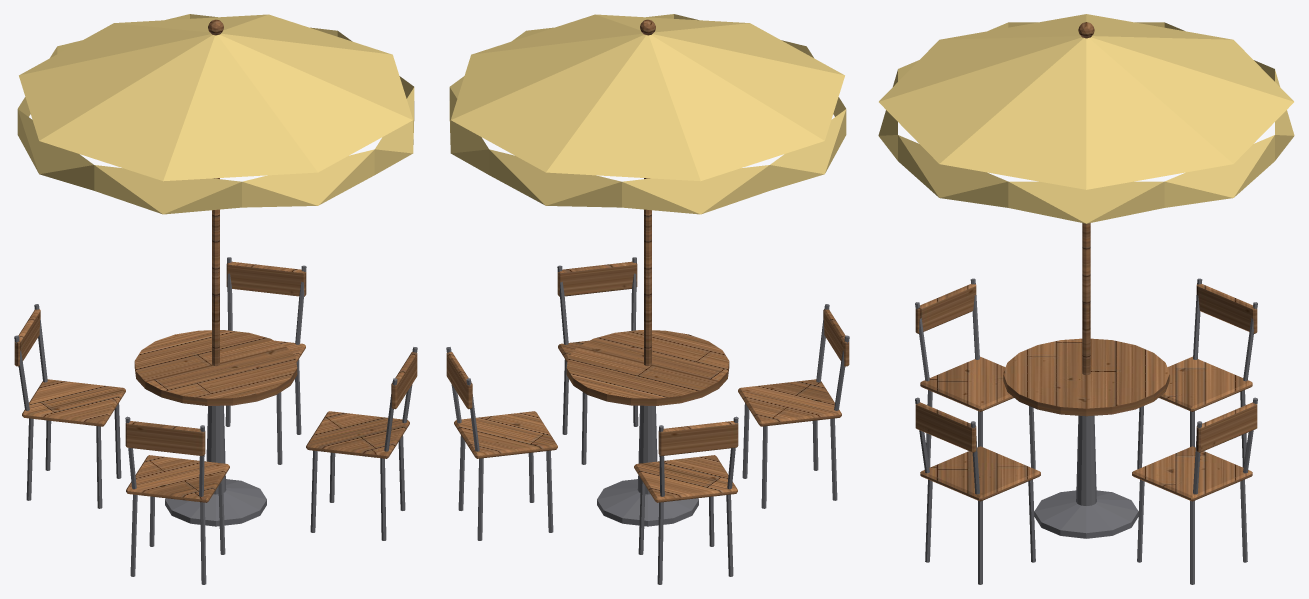
Rendered from umbrella_table_y.glb.
3 renders of one model, left to right at view 1: azimuth 30°, elevation 25°; view 2: azimuth 150°, elevation 25°; view 3: azimuth 270°, elevation 25°, orthographic.
Parts seen in each view (by area): view 1: umbrella_table_y_canvas_y, umbrella_table_y_wood, umbrella_table_y_iron; view 2: umbrella_table_y_canvas_y, umbrella_table_y_wood, umbrella_table_y_iron; view 3: umbrella_table_y_canvas_y, umbrella_table_y_wood, umbrella_table_y_iron.
Part boxes in pixels (bbox=[...]): umbrella_table_y_canvas_y: bbox=[17, 14, 414, 214]; umbrella_table_y_wood: bbox=[14, 19, 417, 502]; umbrella_table_y_iron: bbox=[14, 257, 417, 584]; umbrella_table_y_canvas_y: bbox=[449, 14, 846, 214]; umbrella_table_y_wood: bbox=[446, 19, 849, 502]; umbrella_table_y_iron: bbox=[446, 257, 849, 584]; umbrella_table_y_canvas_y: bbox=[878, 14, 1294, 223]; umbrella_table_y_wood: bbox=[915, 22, 1257, 501]; umbrella_table_y_iron: bbox=[915, 278, 1257, 584].
Size of the model in its own units: 2 by 2.62 by 2.
Materials: 3 (1 with a texture image).
